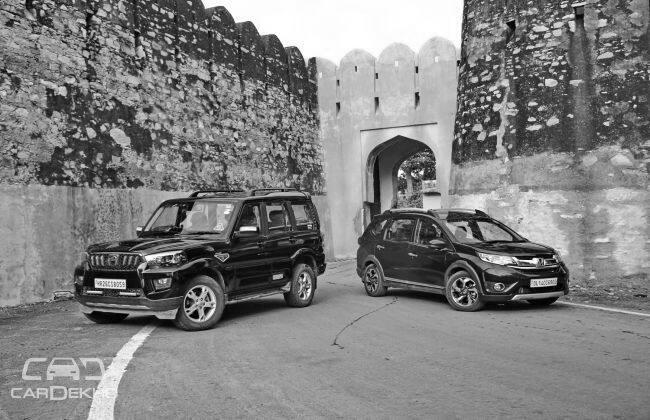Car hood: (86, 235, 226, 257), (453, 240, 562, 259)
Driver-s door - -F-R-: (404, 212, 453, 291)
Fender - -F-L-: (176, 235, 234, 280)
Fender - -F-R-: (443, 241, 479, 280)
Fender - -R-L-: (281, 228, 330, 273)
Fender - -R-R-: (351, 233, 385, 268)
Front bumper: (72, 262, 184, 315), (470, 261, 571, 303)
Headlight - -L-: (142, 248, 186, 268)
Headlight - -R-: (478, 252, 518, 267)
Passenger-s door - -F-L-: (227, 197, 273, 300)
Passenger-s door - -R-L-: (263, 196, 300, 294)
Passenger-s door - -R-R-: (373, 210, 412, 284)
Rear bumper: (305, 248, 330, 280), (353, 254, 372, 277)
Side bumper - -L-: (224, 272, 293, 312)
Side bumper - -R-: (380, 272, 445, 296)
Side mirror - -L-: (233, 224, 262, 244)
Side mirror - -R-: (428, 238, 446, 250), (134, 225, 148, 237)
